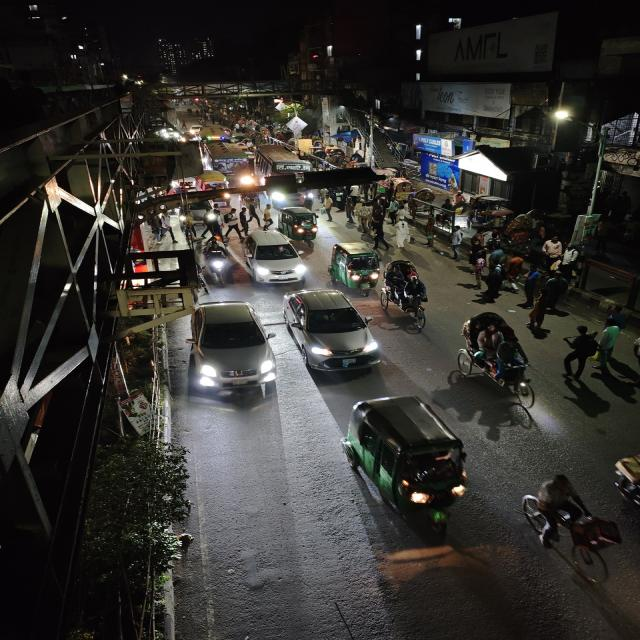bicycle: (515, 470, 626, 580)
bus: (199, 141, 260, 189), (255, 143, 309, 179)
car: (184, 298, 276, 404), (280, 287, 384, 376), (238, 228, 308, 286)
cng: (341, 392, 476, 530), (327, 240, 383, 292), (279, 205, 321, 243)
human_hauler: (191, 174, 232, 203)
motorcycle: (199, 236, 234, 283)
pedestrian: (525, 274, 573, 330), (561, 328, 598, 382), (594, 321, 624, 373), (474, 269, 508, 303), (393, 218, 417, 254), (367, 213, 391, 248), (503, 252, 527, 286), (518, 269, 541, 304), (540, 234, 565, 266), (468, 248, 489, 281), (354, 199, 374, 231), (448, 227, 467, 260), (342, 193, 362, 224), (487, 242, 507, 272), (320, 194, 337, 222), (231, 215, 248, 239), (630, 332, 640, 369), (262, 209, 275, 231), (471, 230, 486, 249)
rickshaw: (452, 308, 540, 407), (383, 258, 433, 332)
